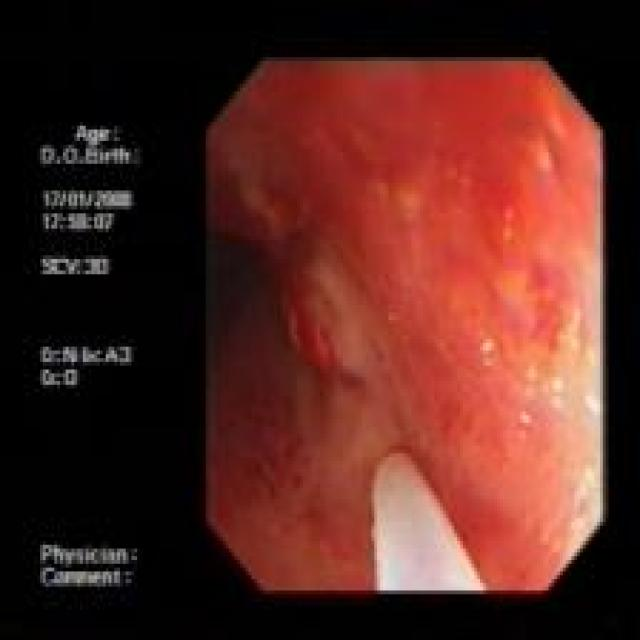blood: (253, 207, 346, 386)
color misalignment: (38, 119, 146, 588)
contrast: (208, 169, 298, 496)
instrument: (372, 449, 487, 590)
saturation: (501, 234, 600, 538)
